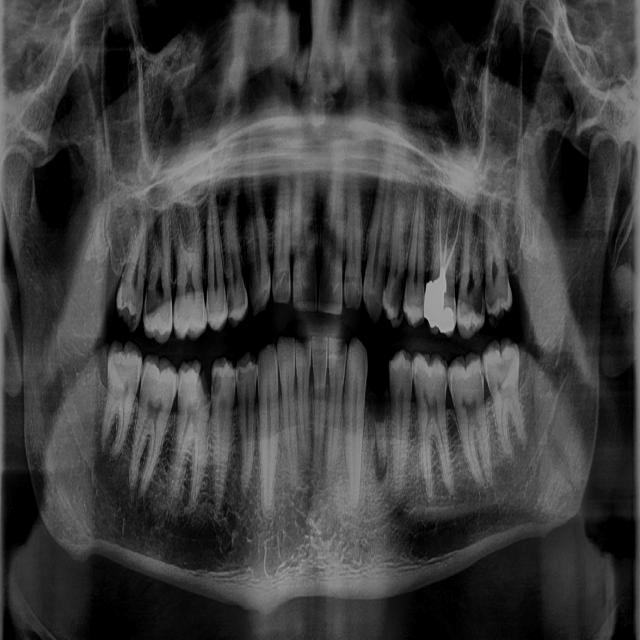Caries: (387, 269, 405, 322), (143, 289, 157, 322), (474, 281, 485, 319), (199, 364, 210, 402), (212, 365, 222, 406), (485, 286, 497, 316), (226, 290, 234, 315), (236, 366, 242, 389), (230, 373, 236, 390)
Filling: (423, 268, 454, 332)
Periapical lesion: (372, 458, 391, 487)
Root Canal Treatment: (444, 210, 462, 274), (442, 212, 451, 266), (439, 217, 443, 269)
Root Piece: (371, 388, 388, 469)
